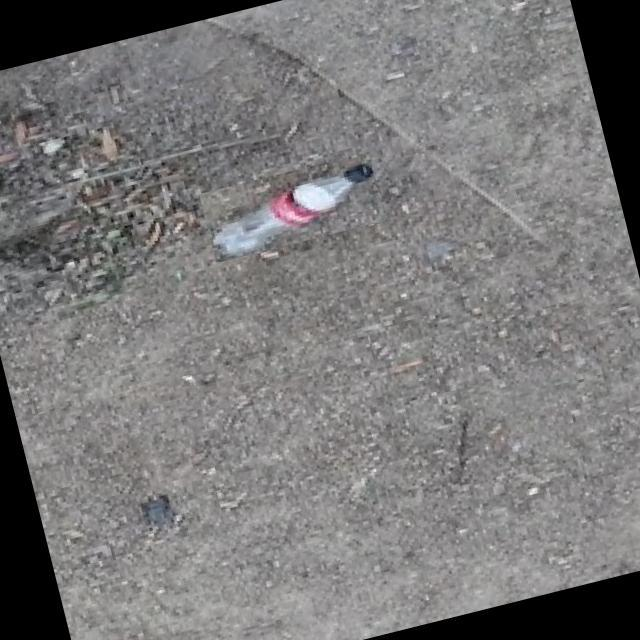good: (198, 152, 385, 262)
